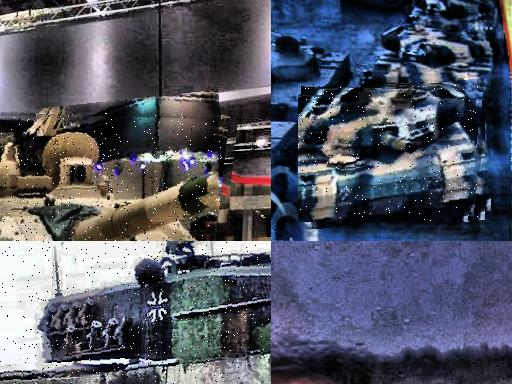tanks: (1, 242, 272, 384), (1, 114, 222, 242), (300, 86, 480, 222), (373, 26, 491, 98), (272, 33, 352, 129), (272, 122, 304, 242), (416, 1, 499, 40)
